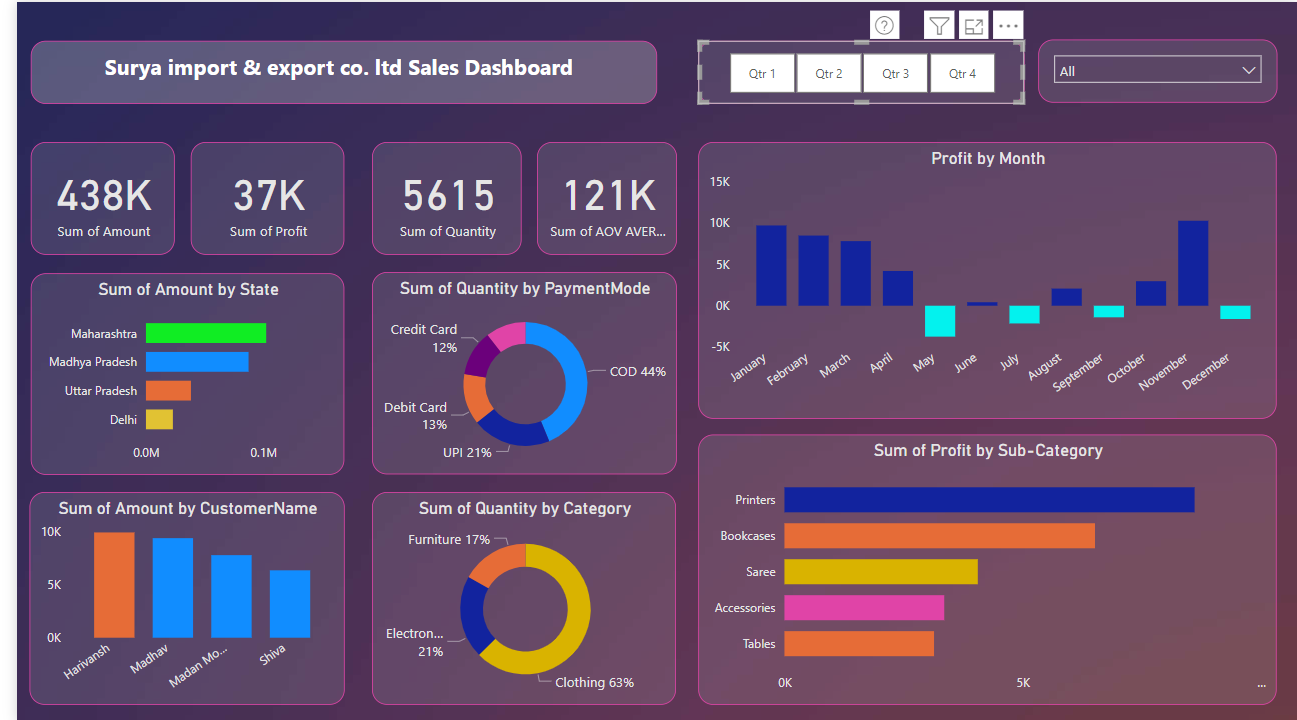

The dashboard page shown, as its layout file describes it:
{"tool":"powerbi","page":{"name":"Page 1","canvas":[1280,720],"ordinal":0},"visuals":[{"type":"textbox","box":[13.7,38.4,626.6,63.1],"z":0},{"type":"columnChart","title":"Profit by Month","fields":{"Category":["Orders.Order Date.Variation.Date Hierarchy.Month"],"Y":["Details.Profit"]},"box":[681.4,139.8,578.6,277],"z":1000},{"type":"barChart","fields":{"Category":["Details.Sub-Category"],"Y":["Details.Profit"]},"box":[681.4,431.9,578.6,270.1],"z":2000},{"type":"donutChart","fields":{"Category":["Details.Category"],"Y":["Details.Quantity"]},"box":[355.1,489.5,304.4,212.5],"z":3000},{"type":"donutChart","fields":{"Y":["Details.Quantity"],"Category":["Details.PaymentMode"]},"box":[354.6,270.1,304.7,202.3],"z":4000},{"type":"card","fields":{"Values":["Details.Amount"]},"box":[13.7,139.8,144,112.4],"z":5000},{"type":"card","fields":{"Values":["Details.Profit"]},"box":[174.1,139.8,153.6,112.4],"z":6000},{"type":"card","fields":{"Values":["Details.Quantity"]},"box":[355.1,139.8,149.4,112.4],"z":7000},{"type":"card","fields":{"Values":["Details.AOV AVERAGE ORDER VALUE"]},"box":[519.6,139.8,139.8,112.4],"z":8000},{"type":"barChart","fields":{"Y":["Details.Amount"],"Category":["Orders.State"]},"box":[13.7,271.5,314,201.5],"z":9000},{"type":"columnChart","fields":{"Y":["Details.Amount"],"Category":["Orders.CustomerName"]},"box":[12.3,489.5,315.3,212.5],"z":10000},{"type":"slicer","fields":{"Values":["Orders.Order Date.Variation.Date Hierarchy.Quarter"]},"box":[681.4,38.4,326.3,63.1],"z":10001},{"type":"slicer","fields":{"Values":["Orders.State"]},"box":[1021.1,38.1,239.2,63.1],"z":10002}]}

Visuals, with their boxes in screenshot pixels (x1, y1, x2, y2), scaled from the page's 1280x720 canvas onto the 1297x720 screenshot:
textbox: box=[14, 38, 649, 102]
"Profit by Month" columnChart: box=[690, 140, 1277, 417]
barChart - Details.Sub-Category x Details.Profit: box=[690, 432, 1277, 702]
donutChart - Details.Category x Details.Quantity: box=[360, 490, 668, 702]
donutChart - Details.Quantity x Details.PaymentMode: box=[359, 270, 668, 472]
card - Details.Amount: box=[14, 140, 160, 252]
card - Details.Profit: box=[176, 140, 332, 252]
card - Details.Quantity: box=[360, 140, 511, 252]
card - Details.AOV AVERAGE ORDER VALUE: box=[527, 140, 668, 252]
barChart - Details.Amount x Orders.State: box=[14, 272, 332, 473]
columnChart - Details.Amount x Orders.CustomerName: box=[12, 490, 332, 702]
slicer - Orders.Order Date.Variation.Date Hierarchy.Quarter: box=[690, 38, 1021, 102]
slicer - Orders.State: box=[1035, 38, 1277, 101]
